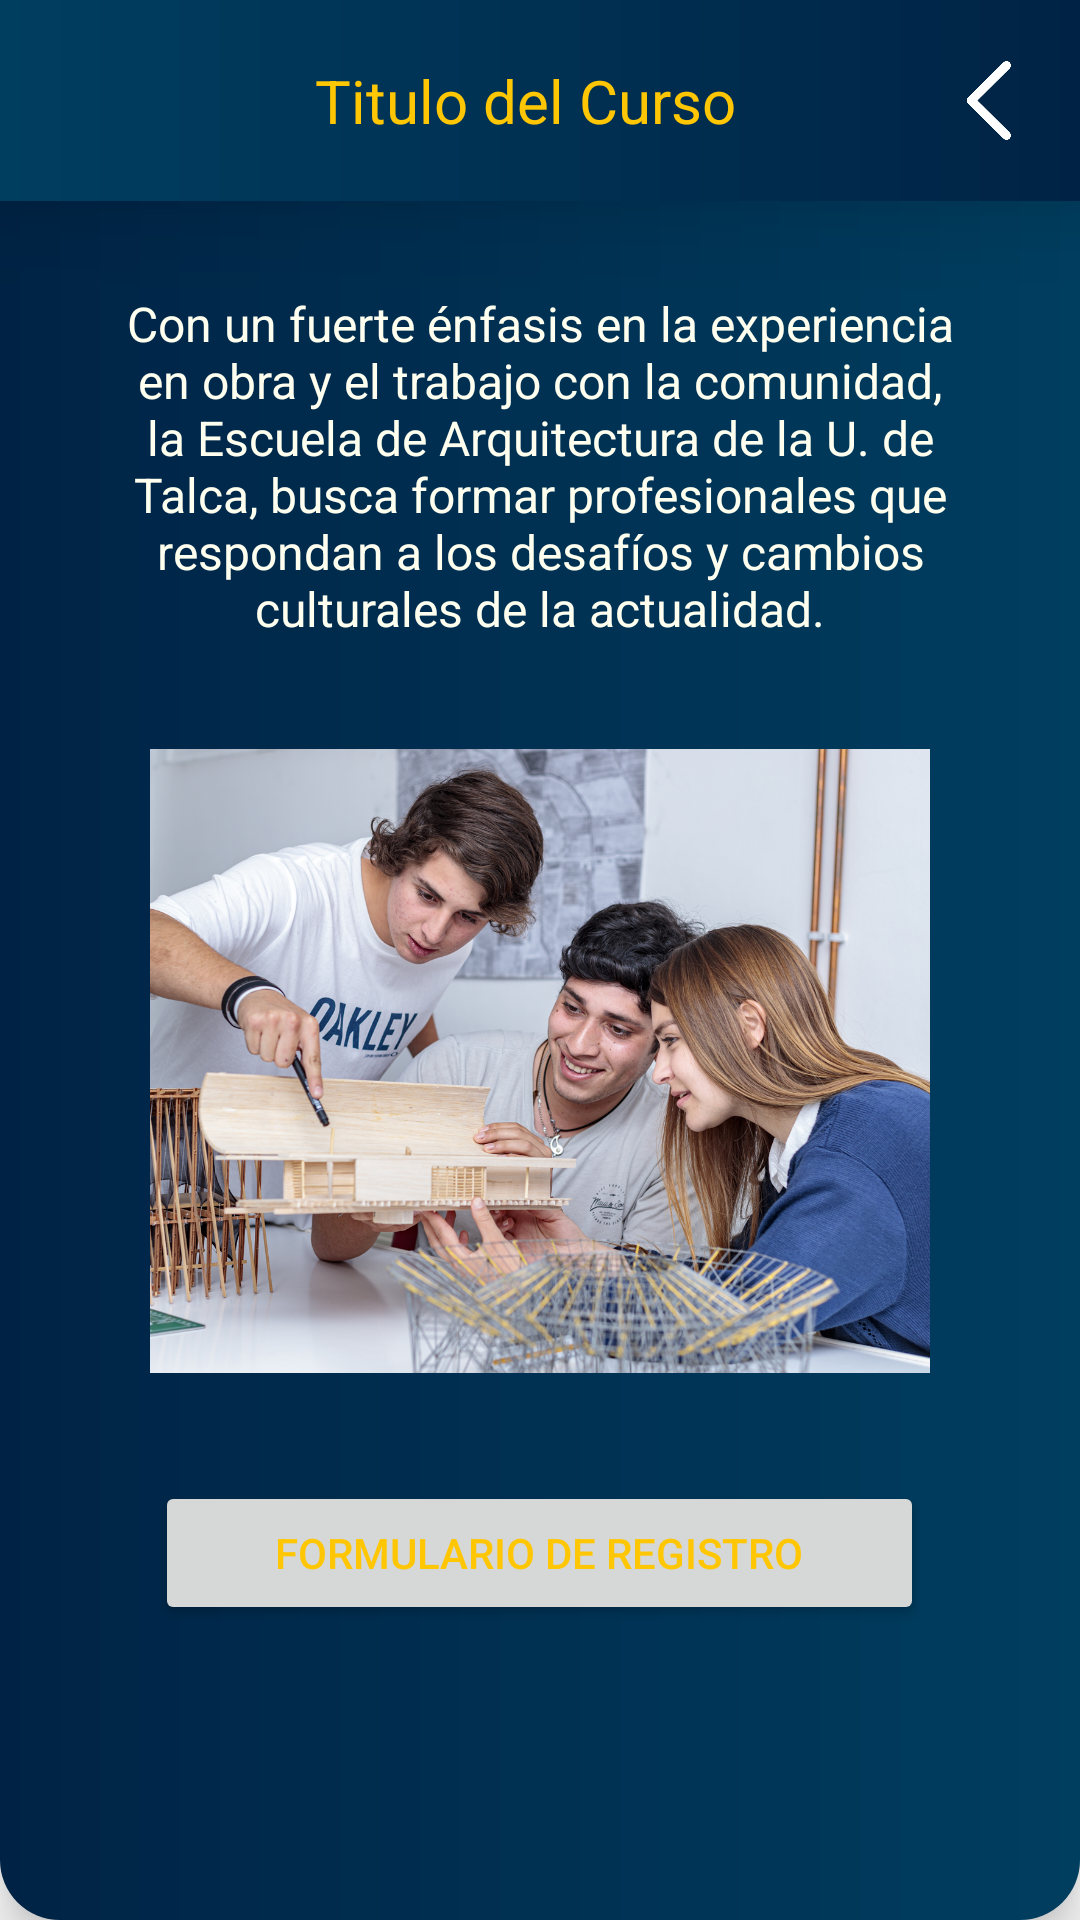

Icon bounding boxes for this 1080w x 1920h phone screenshot, format (x1, y1, x2, y2):
atras: (967, 61, 1011, 140)
